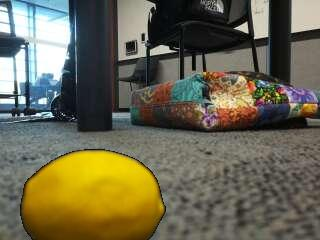lemon: (21, 149, 164, 238)
